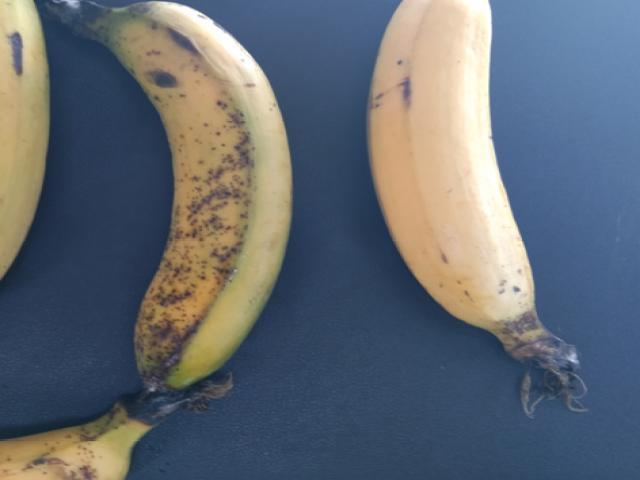freshripe: (347, 0, 572, 350)
ripe: (91, 0, 328, 407)
